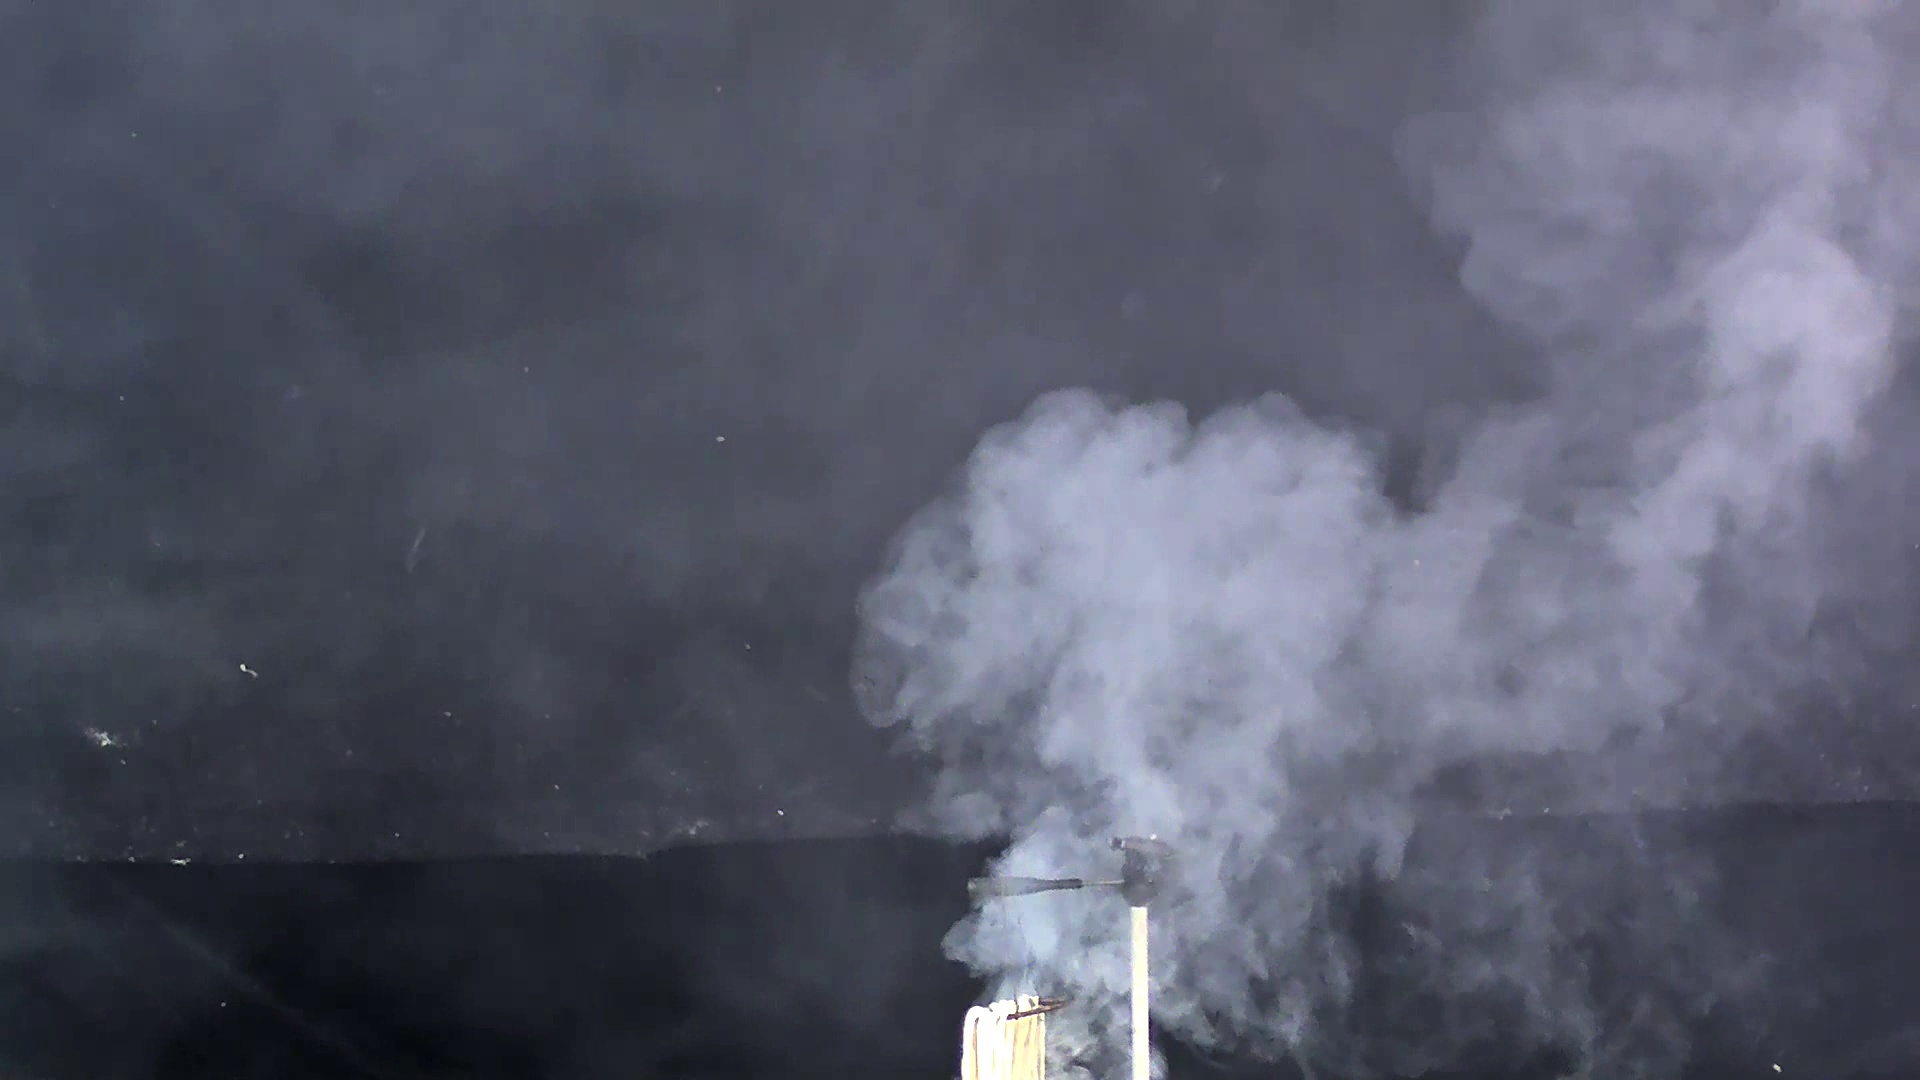smoke: (818, 111, 1875, 1001)
